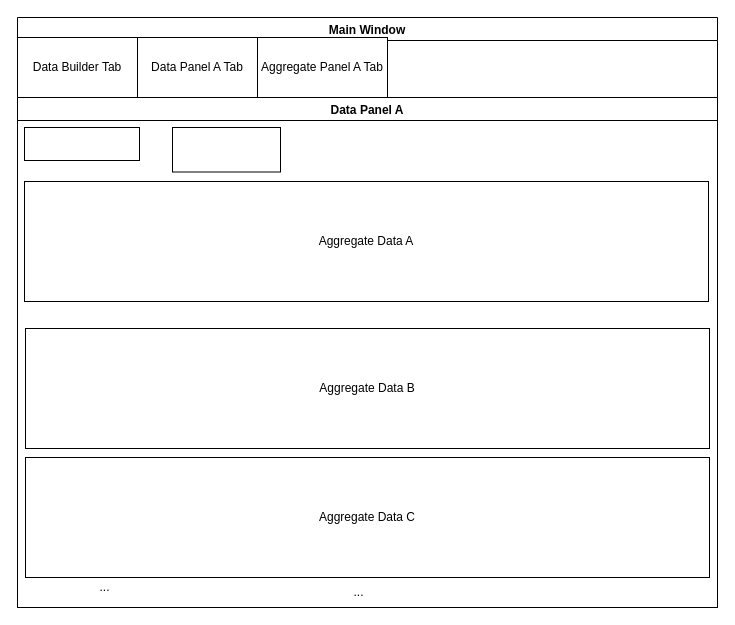
Some shapes in this 735 by 625 pixel diagram are drawn without their labels. The centre of each missing label's shape, as x and y in pixels:
Patient Id: pixel 82 143
Timebox: pixel 226 149
